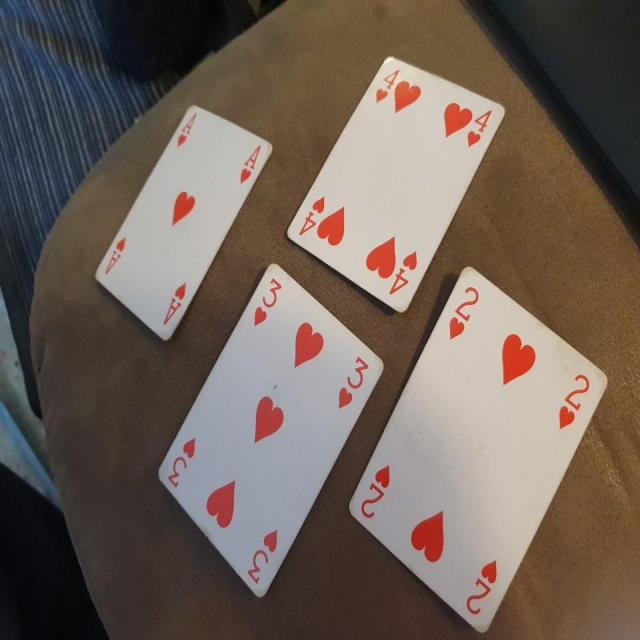2 Hearts: (344, 261, 616, 640)
3 Hearts: (152, 250, 403, 594)
4 Hearts: (284, 47, 516, 320)
A Hearts: (86, 100, 283, 352)
